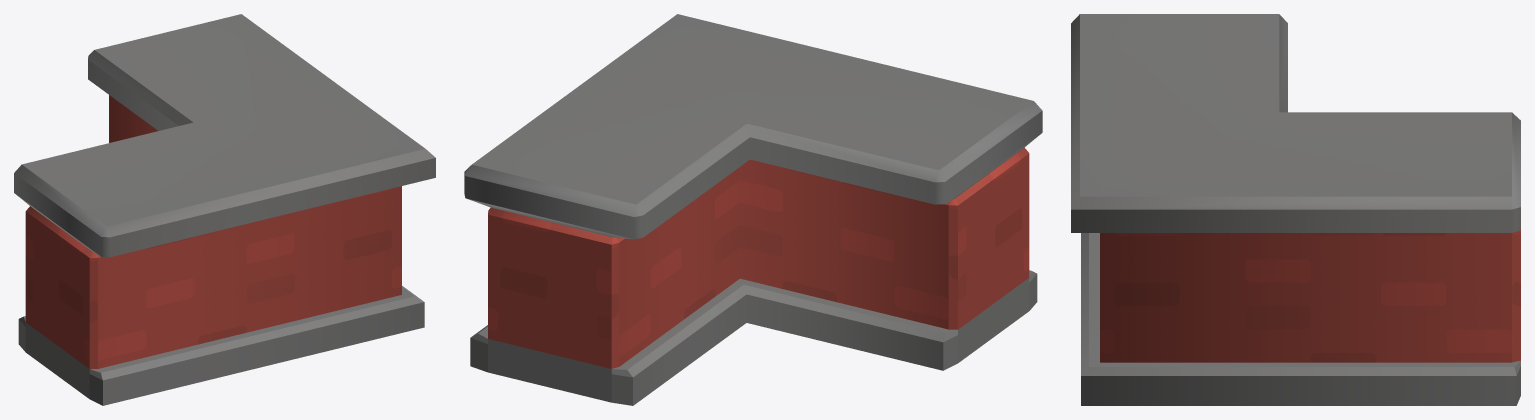
Rendered from BrickWall_3_1.fbx.
The picture shows the model from 3 angles, left to right: view 1: azimuth 30°, elevation 25°; view 2: azimuth 150°, elevation 25°; view 3: azimuth 270°, elevation 25°; orthographic projection. The views are drawn at different scales.
Visible parts, largest first — view 1: BrickWall_3_1; view 2: BrickWall_3_1; view 3: BrickWall_3_1.
Part boxes in pixels (x1,y1,x2,y2): BrickWall_3_1: [14, 14, 435, 405]; BrickWall_3_1: [464, 14, 1042, 405]; BrickWall_3_1: [1071, 14, 1520, 405].
Bounding box in the file's own units: 132 × 67.83 × 132.
